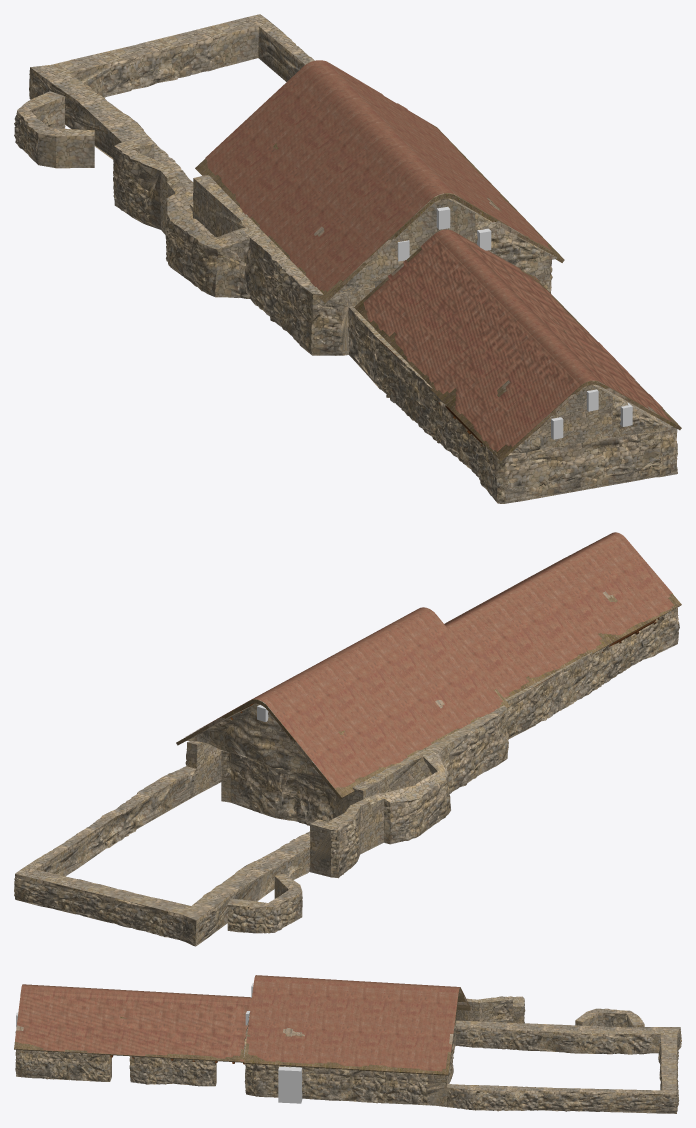
The model's file is Tambo.glb.
3 views of the same model, one above another, from view 1: azimuth 30°, elevation 25°; view 2: azimuth 150°, elevation 25°; view 3: azimuth 270°, elevation 25° (orthographic). The views are drawn at different scales.
Visible parts, largest first — view 1: tambo 1 techo 3.002, tambo 1 techo 2.001, tambo 1 techo.001, tambo 1 techo, tambo 1 techo 2, Cube.001; view 2: tambo 1 techo 3.002, tambo 1 techo 2.001, tambo 1 techo.001, tambo 1 techo 2, tambo 1 techo; view 3: tambo 1 techo 3.002, tambo 1 techo 2.001, tambo 1 techo.001, tambo 1 techo 2, Cube.001, tambo 1 techo.
Boxes of the visible parts, bbox=[...] form: tambo 1 techo 3.002: bbox=[14, 14, 677, 503]; tambo 1 techo 2.001: bbox=[205, 60, 550, 291]; tambo 1 techo.001: bbox=[363, 229, 671, 451]; tambo 1 techo: bbox=[354, 247, 681, 461]; tambo 1 techo 2: bbox=[195, 103, 564, 303]; Cube.001: bbox=[397, 206, 632, 439]; tambo 1 techo 3.002: bbox=[14, 605, 679, 946]; tambo 1 techo 2.001: bbox=[186, 607, 502, 788]; tambo 1 techo.001: bbox=[444, 532, 673, 697]; tambo 1 techo 2: bbox=[176, 689, 510, 799]; tambo 1 techo: bbox=[503, 591, 681, 699]; tambo 1 techo 3.002: bbox=[15, 996, 681, 1113]; tambo 1 techo 2.001: bbox=[246, 975, 466, 1071]; tambo 1 techo.001: bbox=[15, 984, 251, 1061]; tambo 1 techo 2: bbox=[243, 987, 470, 1075]; Cube.001: bbox=[16, 983, 302, 1103]; tambo 1 techo: bbox=[14, 1016, 244, 1062].
Size of the model in its own units: 14.66 by 6.9 by 46.4.
Materials: 7 (7 with a texture image).
